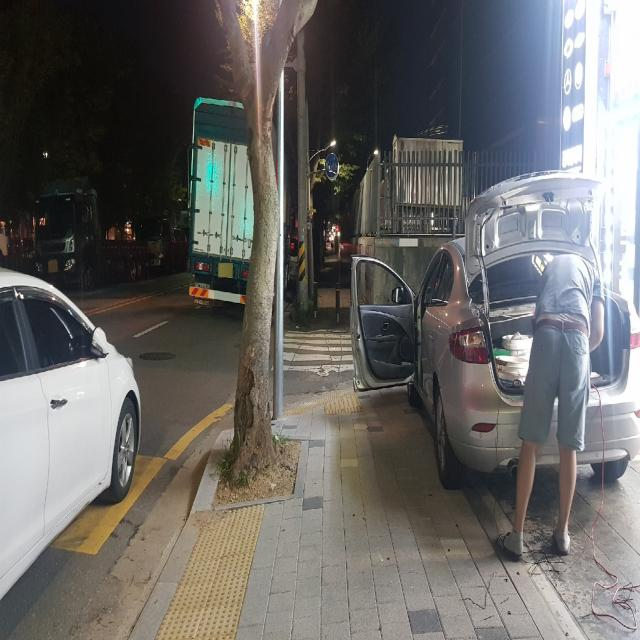횡단보도: (282, 328, 354, 373)
